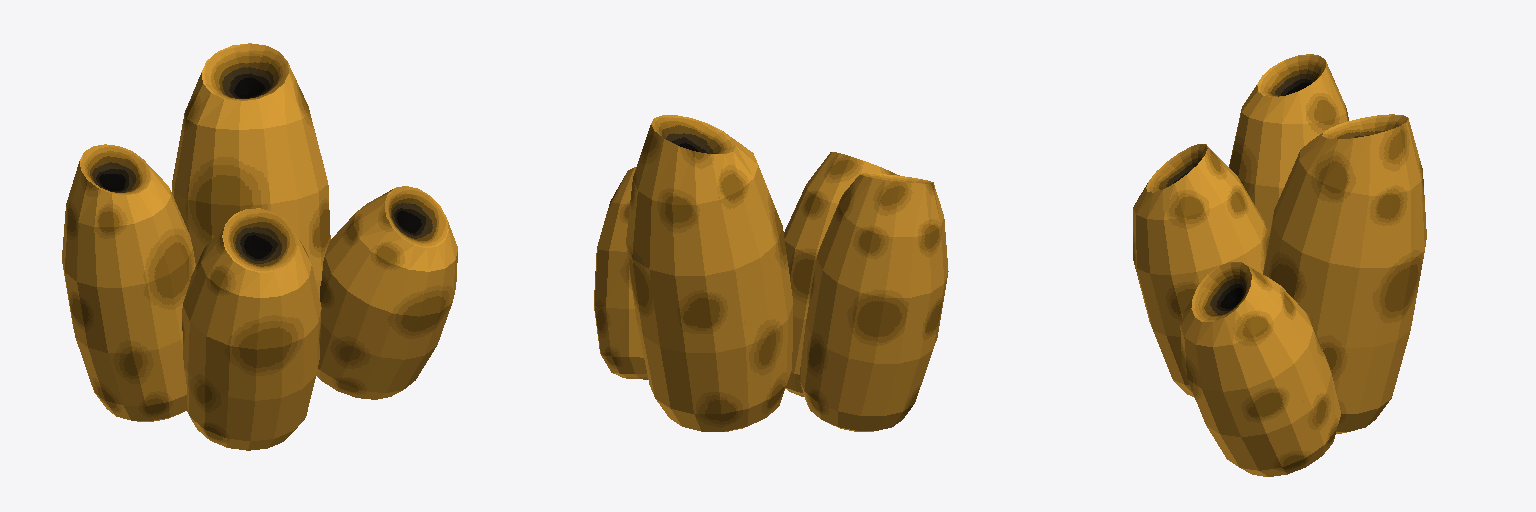
The picture shows the model from 3 angles: view 1: azimuth 30°, elevation 25°; view 2: azimuth 150°, elevation 25°; view 3: azimuth 270°, elevation 25°; orthographic projection.
Visible parts, largest first — view 1: Sponge; view 2: Sponge; view 3: Sponge.
Part boxes in pixels (x1,y1,x2,y2): Sponge: (62, 43, 457, 450); Sponge: (594, 115, 948, 431); Sponge: (1133, 54, 1426, 476).
Bounding box in the file's own units: 10.57 × 8.86 × 7.57.
2 materials, 2 textured.